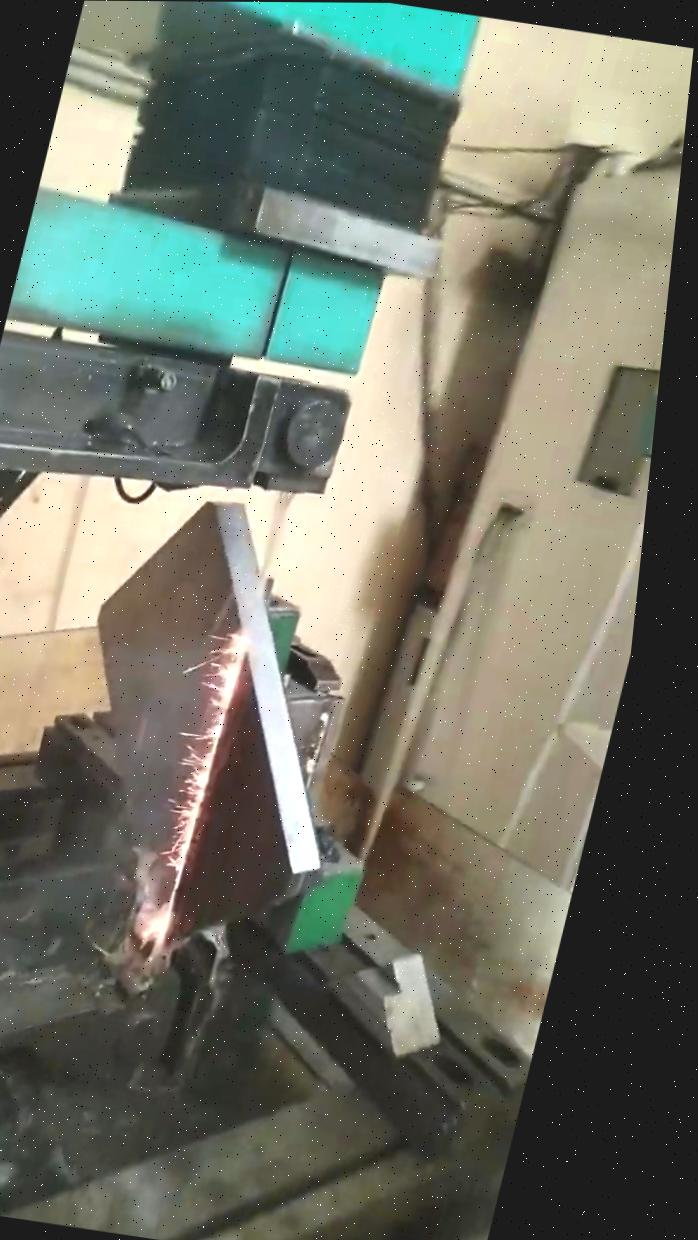fire: (59, 471, 325, 1045)
